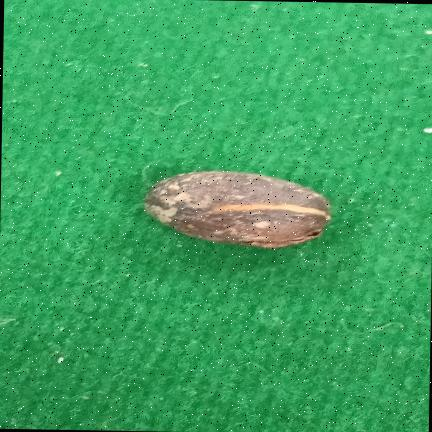husk: (144, 170, 330, 247)
